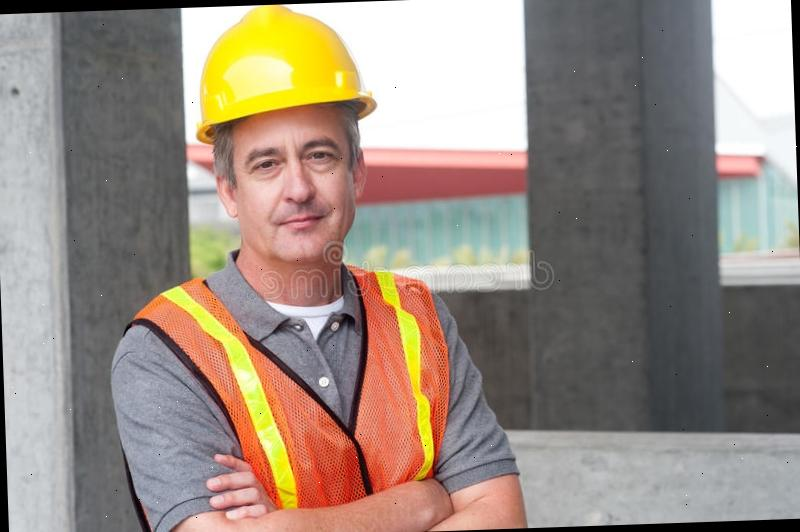helmet: (185, 6, 377, 142)
wear: (129, 276, 490, 532)
